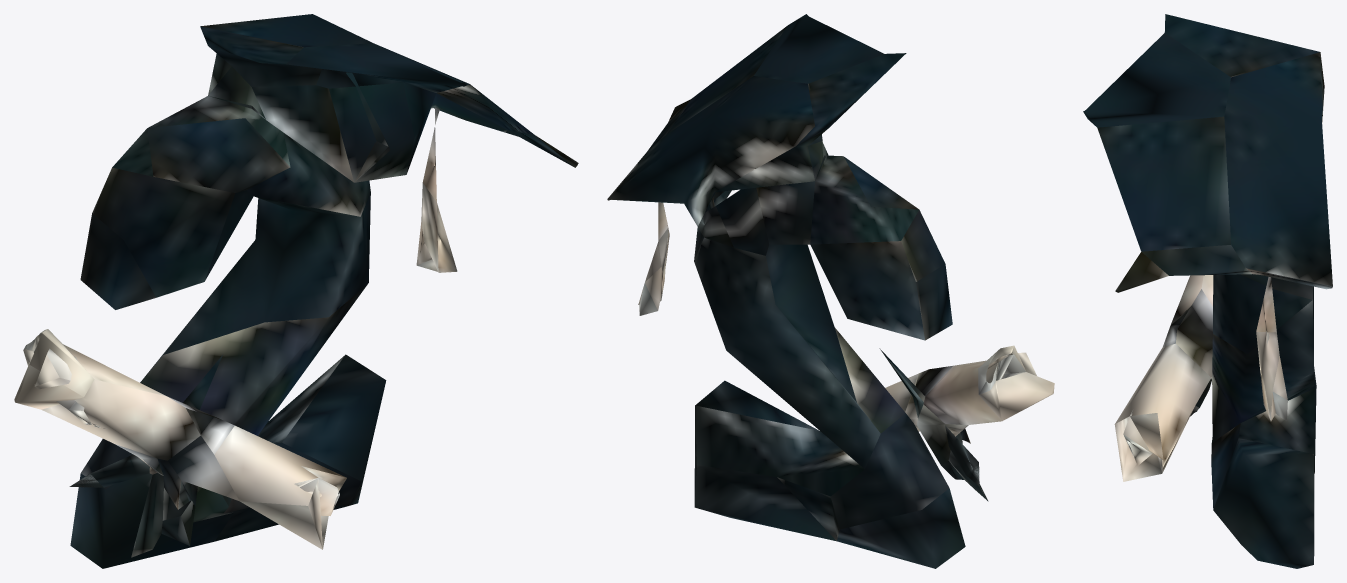
3 renders of one model, left to right at view 1: azimuth 30°, elevation 25°; view 2: azimuth 150°, elevation 25°; view 3: azimuth 270°, elevation 25°, orthographic. The views are drawn at different scales.
Parts seen in each view (by area): view 1: Graduation-2; view 2: Graduation-2; view 3: Graduation-2.
Boxes of the visible parts, x1,y1,x2,y2 form: Graduation-2: [14, 14, 578, 568]; Graduation-2: [607, 14, 1054, 568]; Graduation-2: [1083, 14, 1332, 568].
Bounding box in the file's own units: 0.2675 × 0.2621 × 0.1238.
1 material, 1 textured.
